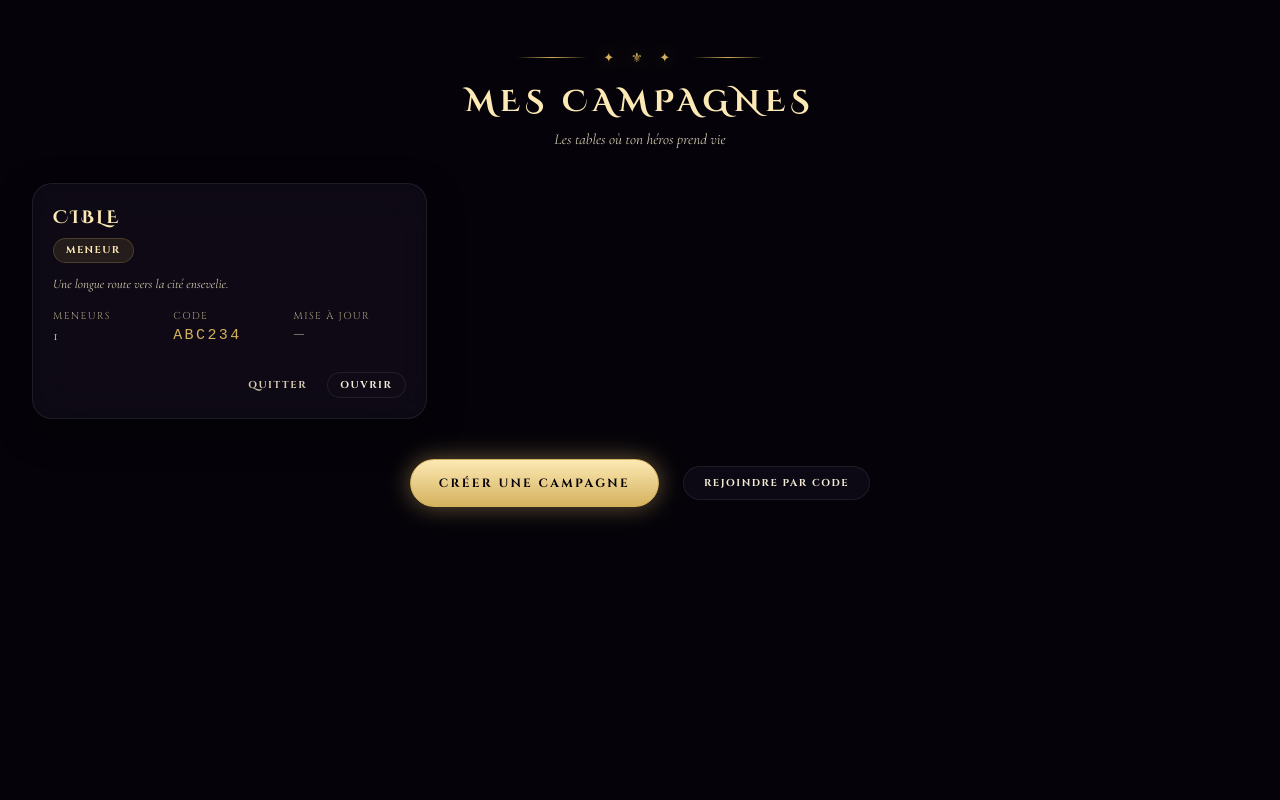
Test: <LeaveCampaignModal> via screen › confirme → appelle leaveCampaign + refresh + ferme
Click the button "Quitter": (278, 384) [236,372,319,398]
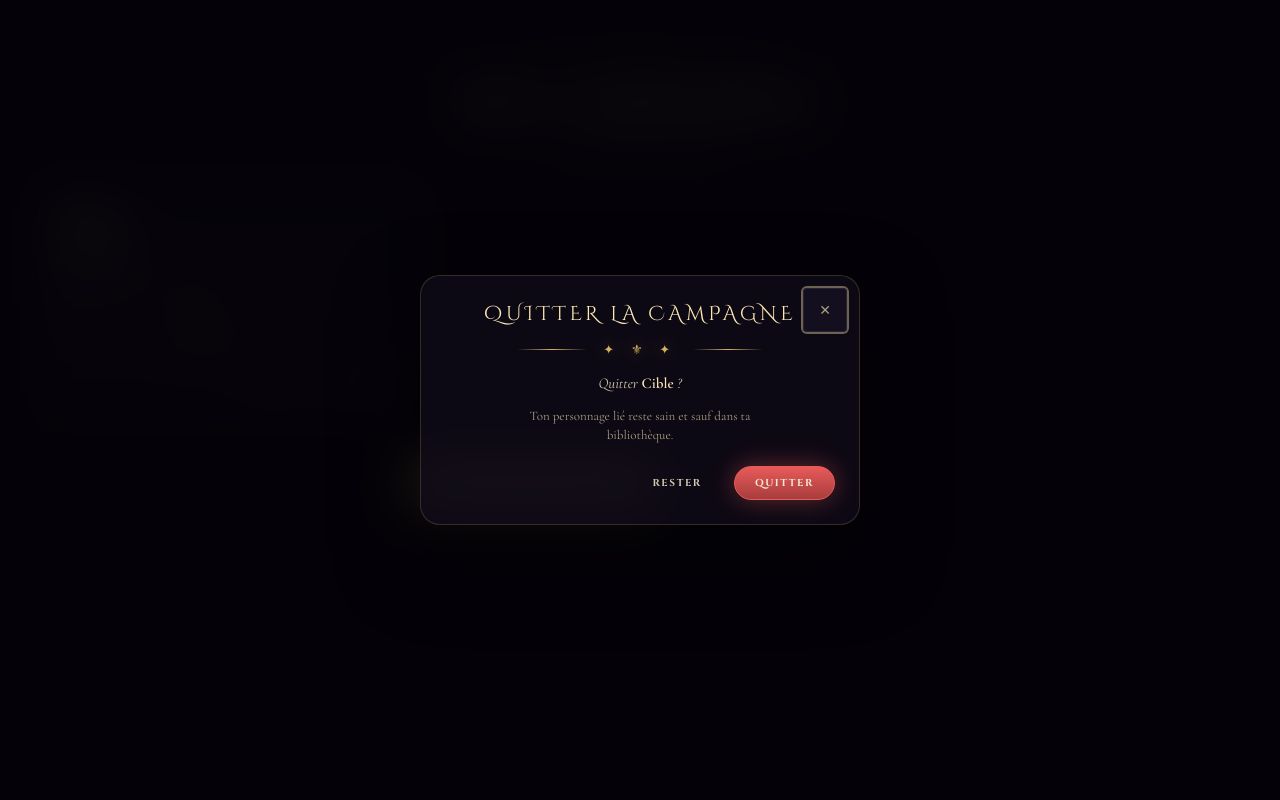
// Le 1er bouton sur la card a déjà été cliqué, on prend le dialog button (le dernier).
Click the button "Quitter": (784, 483) [734,466,835,500]
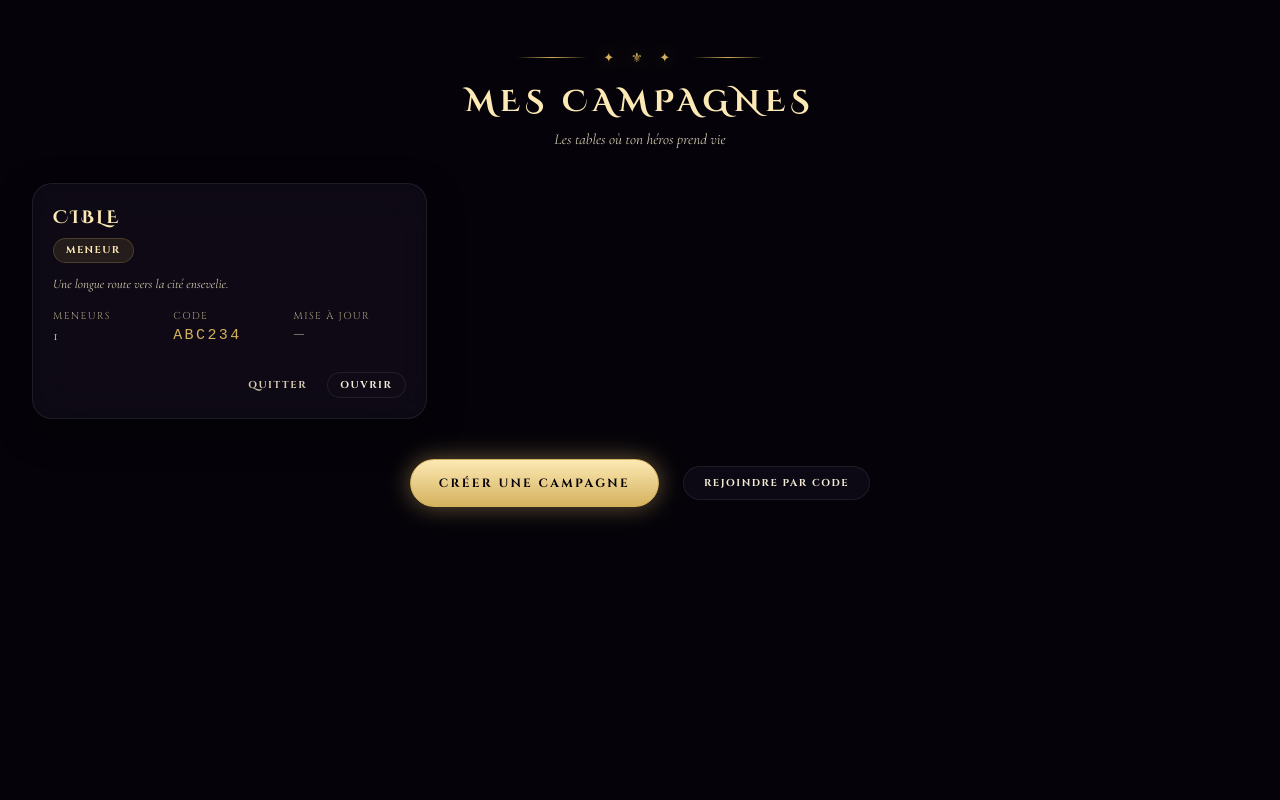
Expected: the dialog is gone
